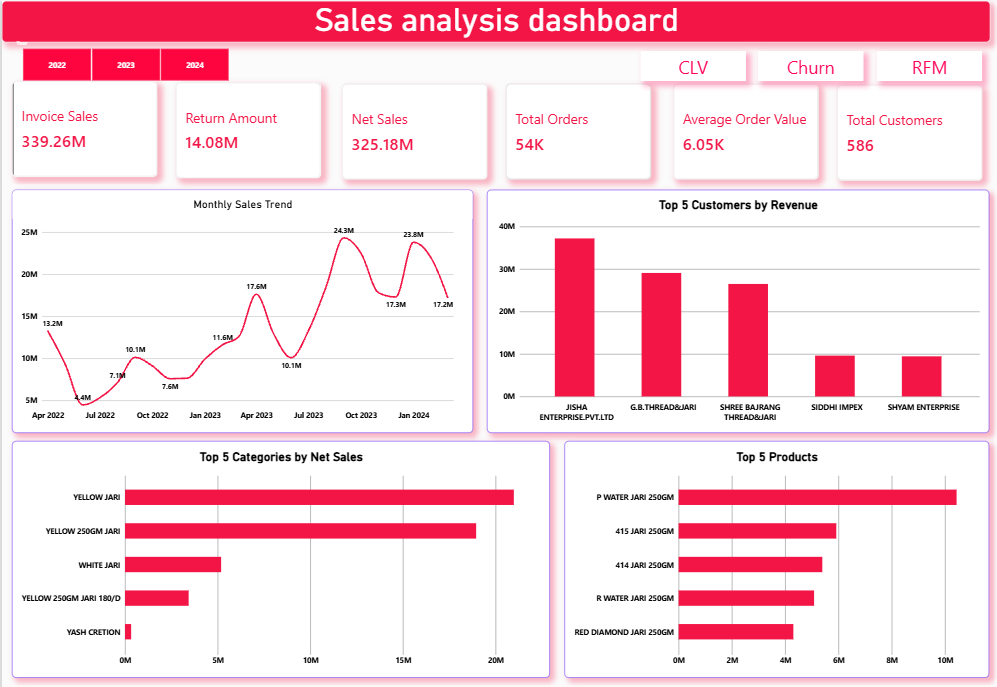

What the dashboard file says about the page in this screenshot:
{"tool":"powerbi","page":{"name":"Sales ","canvas":[2560,1440],"ordinal":1},"visuals":[{"type":"cardVisual","fields":{"Data":["cleanfile.Invoice_sales"]},"box":[18.7,150,271.4,179.2],"z":0},{"type":"shape","title":"Sales analysis dashboard","box":[0,0,1843.3,76.7],"z":1000},{"type":"cardVisual","fields":{"Data":["cleanfile.Return_amount"]},"box":[323.7,151.7,271.4,179.2],"z":2000},{"type":"cardVisual","fields":{"Data":["cleanfile.Net_sales"]},"box":[633.7,155,271.4,179.2],"z":3000},{"type":"cardVisual","fields":{"Data":["cleanfile.Total_orders"]},"box":[940.3,155,271.4,179.2],"z":4000},{"type":"cardVisual","fields":{"Data":["cleanfile.Average Order Value"]},"box":[1252,155,271.4,179.2],"z":5000},{"type":"cardVisual","fields":{"Data":["cleanfile.Total_customers"]},"box":[1557,156.7,271.4,179.2],"z":6000},{"type":"lineChart","title":"Monthly Sales Trend","fields":{"Y":["cleanfile.Net_sales"],"Category":["DateTable.Date.Variation.Date Hierarchy.Year","DateTable.Date.Variation.Date Hierarchy.Month"]},"box":[18.7,351.7,860,453.3],"z":7000},{"type":"clusteredBarChart","title":"Top 5 Categories by Net Sales","fields":{"Y":["cleanfile.Net_sales"],"Category":["cleanfile.Product Category"]},"box":[18.7,821.7,1003.3,441.7],"z":8000},{"type":"clusteredColumnChart","title":"Top 5 Customers by Revenue","fields":{"Category":["cleanfile.Customer Name"],"Y":["cleanfile.Net_sales"]},"box":[905.3,351.7,936.7,453.3],"z":9000},{"type":"clusteredBarChart","title":"Top 5 Products","fields":{"Category":["cleanfile.Product Name"],"Y":["cleanfile.Net_sales"]},"box":[1050.3,821.7,791.7,441.7],"z":10000},{"type":"slicer","fields":{"Values":["DateTable.Year"]},"box":[18.3,71.7,423.3,78.3],"z":11000},{"type":"actionButton","title":"Sales Dashboard","box":[1191.6,93.6,196,56],"z":15000},{"type":"actionButton","title":"Sales Dashboard","box":[1631.6,93.6,196,56],"z":16000},{"type":"actionButton","title":"Sales Dashboard","box":[1411.6,93.6,196,56],"z":17000}]}

Visuals, with their boxes on the page's 2560x1440 design canvas (x1, y1, x2, y2). These are canvas units, not pixel positions in the 997x687 screenshot, which may show the page scaled, cropped or inside an application window:
cardVisual - cleanfile.Invoice_sales: x1=19, y1=150, x2=290, y2=329
"Sales analysis dashboard" shape: x1=0, y1=0, x2=1843, y2=77
cardVisual - cleanfile.Return_amount: x1=324, y1=152, x2=595, y2=331
cardVisual - cleanfile.Net_sales: x1=634, y1=155, x2=905, y2=334
cardVisual - cleanfile.Total_orders: x1=940, y1=155, x2=1212, y2=334
cardVisual - cleanfile.Average Order Value: x1=1252, y1=155, x2=1523, y2=334
cardVisual - cleanfile.Total_customers: x1=1557, y1=157, x2=1828, y2=336
"Monthly Sales Trend" lineChart: x1=19, y1=352, x2=879, y2=805
"Top 5 Categories by Net Sales" clusteredBarChart: x1=19, y1=822, x2=1022, y2=1263
"Top 5 Customers by Revenue" clusteredColumnChart: x1=905, y1=352, x2=1842, y2=805
"Top 5 Products" clusteredBarChart: x1=1050, y1=822, x2=1842, y2=1263
slicer - DateTable.Year: x1=18, y1=72, x2=442, y2=150
"Sales Dashboard" actionButton: x1=1192, y1=94, x2=1388, y2=150
"Sales Dashboard" actionButton: x1=1632, y1=94, x2=1828, y2=150
"Sales Dashboard" actionButton: x1=1412, y1=94, x2=1608, y2=150
